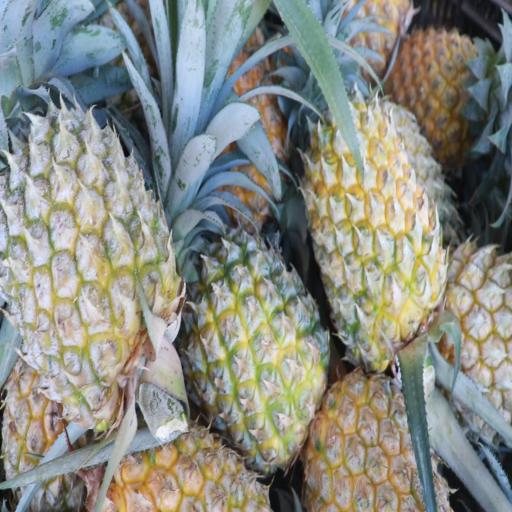------------------------------: (1, 126, 173, 408), (187, 233, 326, 461)
Pineapple - v8 v1: (311, 96, 441, 348), (316, 382, 446, 512), (389, 25, 497, 167)
